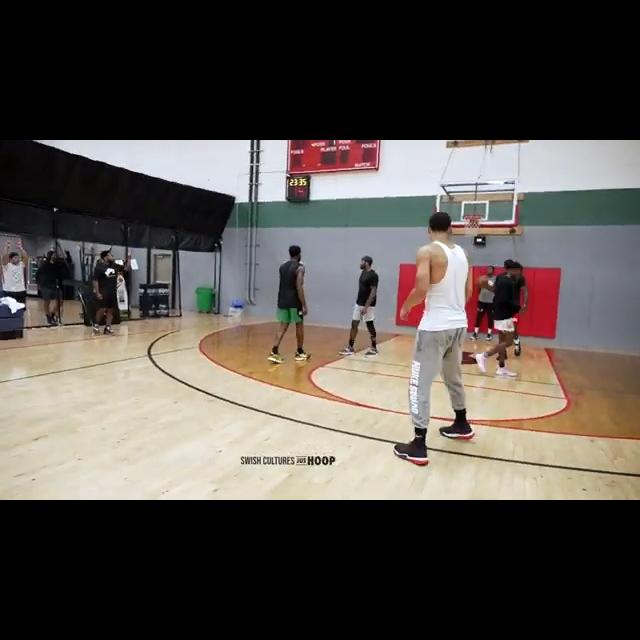basketball: (477, 275, 489, 287)
hoop: (462, 211, 483, 232)
person: (392, 209, 477, 468), (265, 243, 315, 365), (482, 256, 522, 377), (338, 255, 381, 358), (491, 262, 532, 362), (88, 246, 126, 338), (37, 250, 67, 323), (473, 261, 496, 345), (2, 248, 29, 316)
